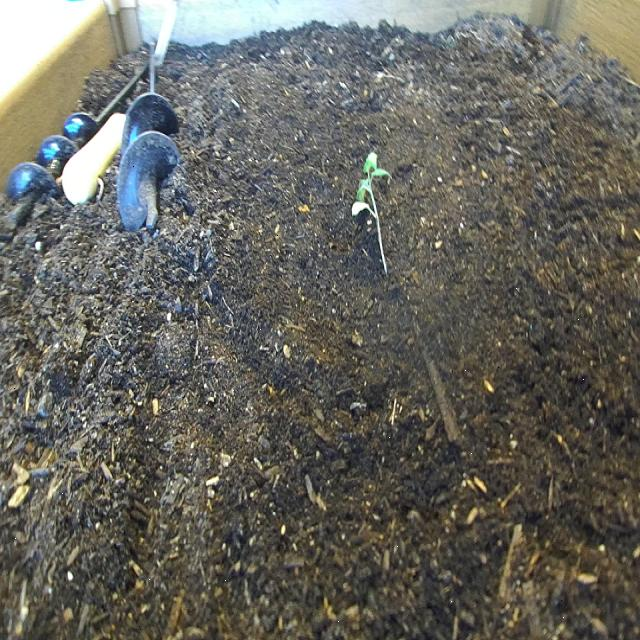Unhealthy: (349, 143, 398, 284)
